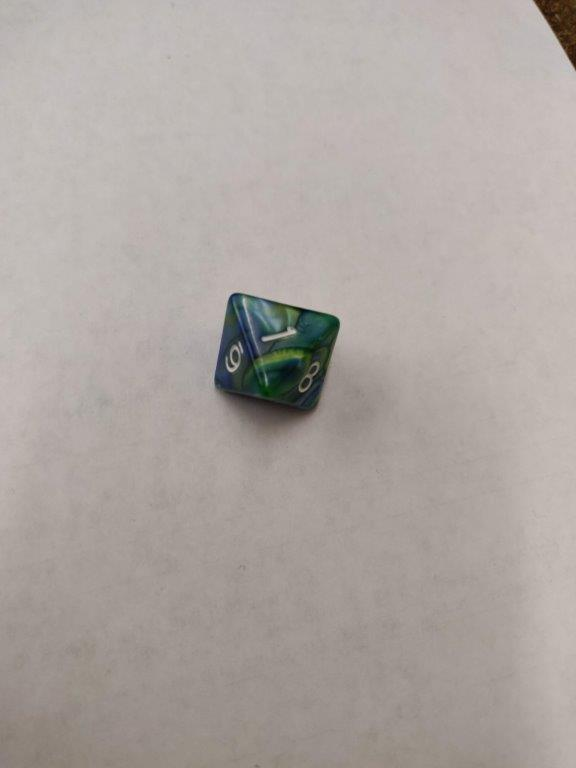d8-1: (214, 291, 344, 415)
